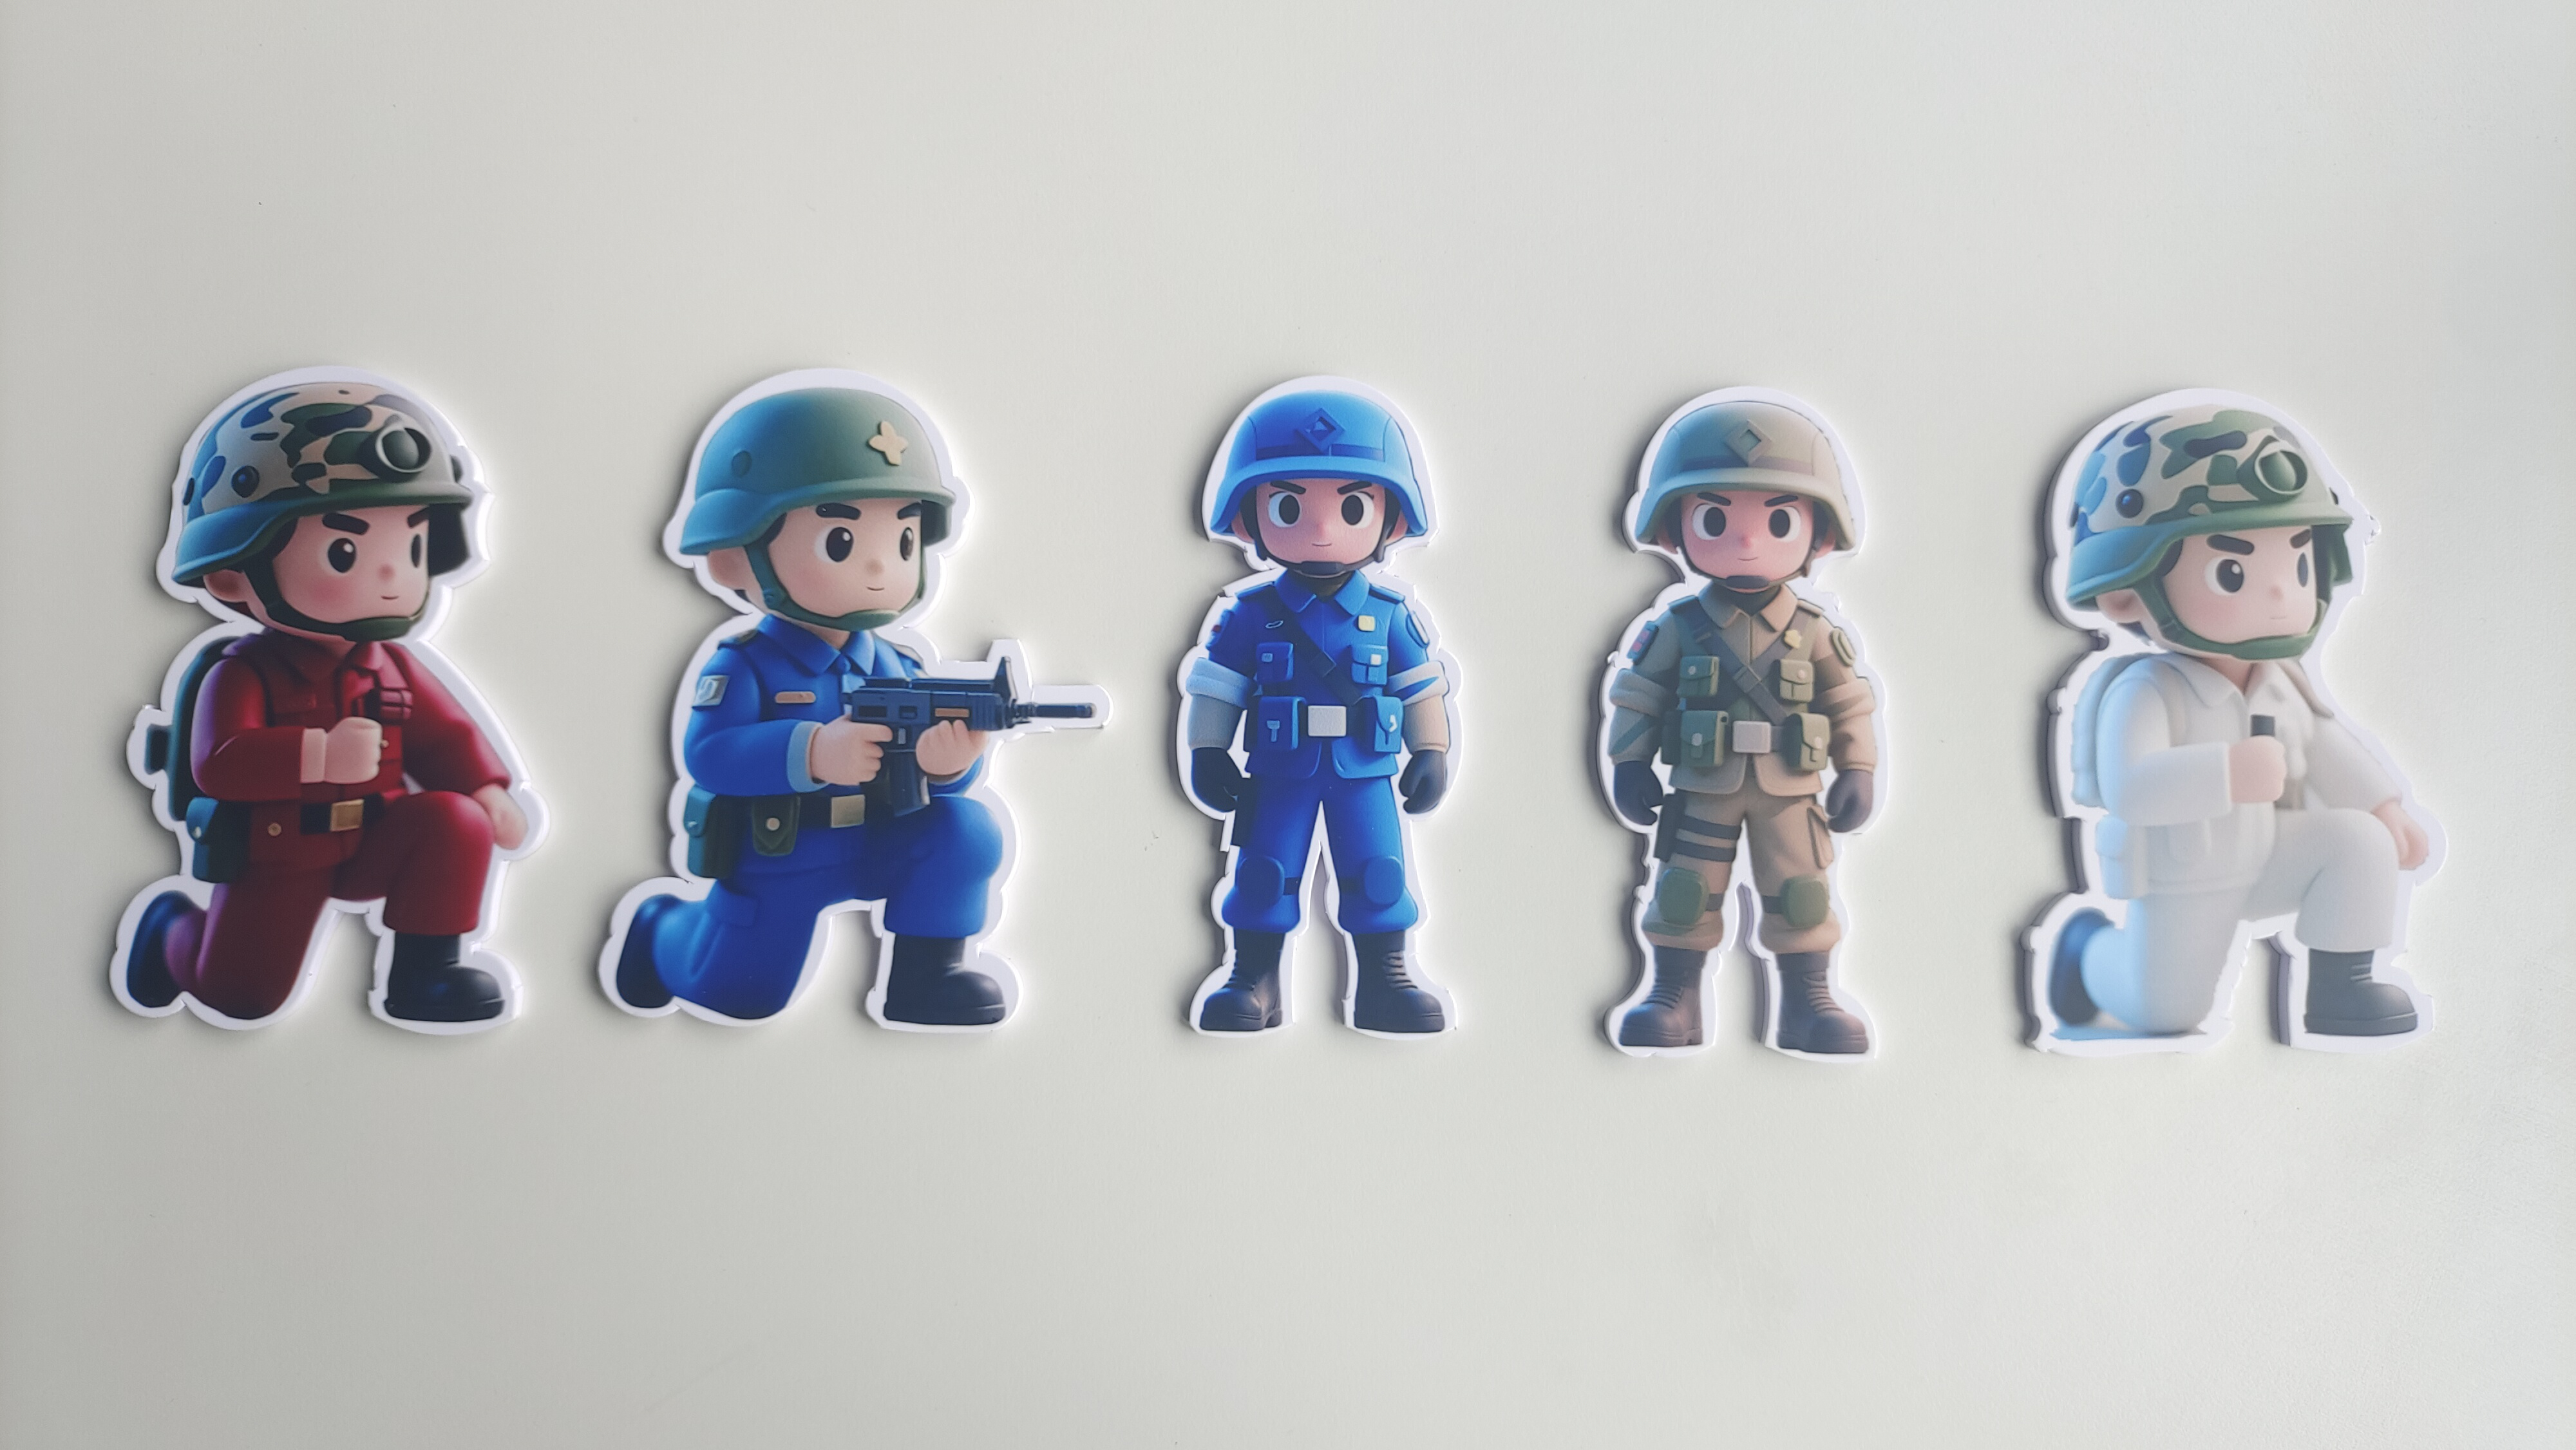enemy1: (83, 635, 529, 1042)
enemy2: (598, 635, 1021, 1034), (1168, 578, 1461, 1038)
friend: (1560, 592, 1902, 1073)
hostage: (2006, 647, 2440, 1045)
